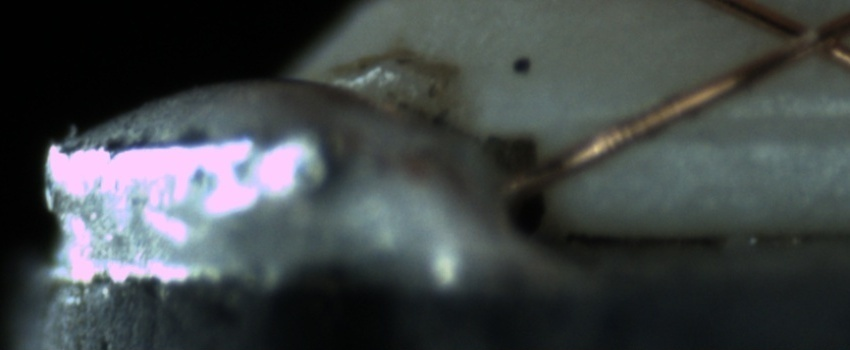CL: (761, 4, 850, 68)
DL: (639, 84, 840, 166)
